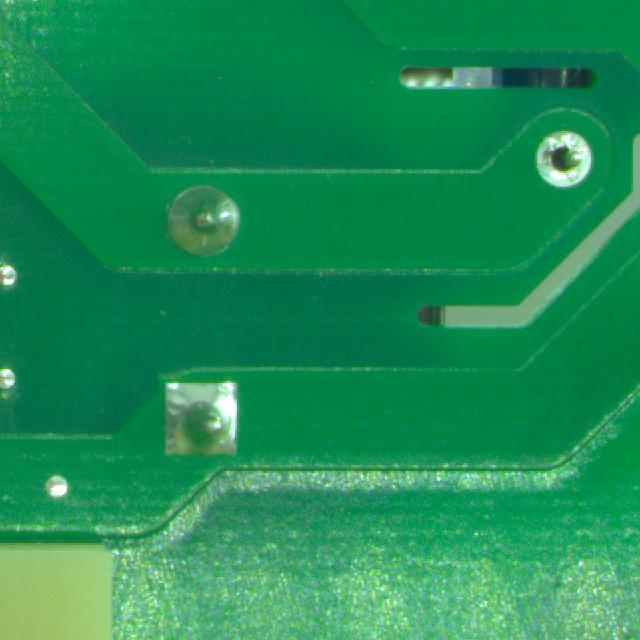Insufficient solder: (528, 117, 596, 208)
